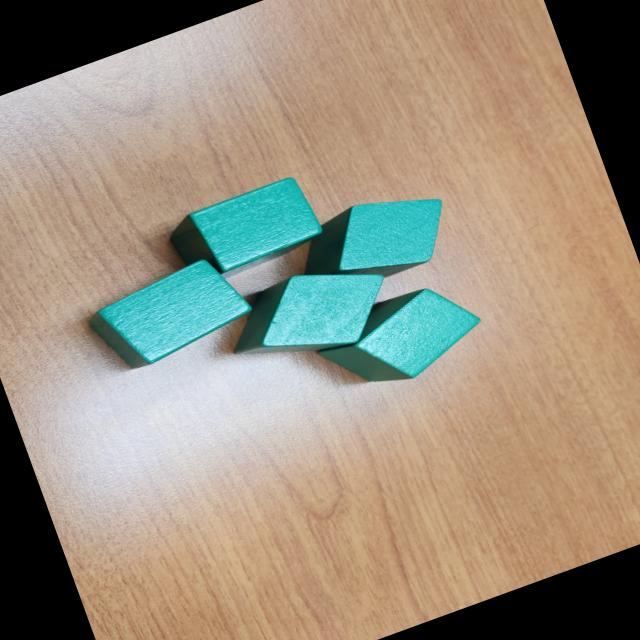green: (213, 244, 409, 385), (309, 270, 495, 408), (80, 249, 258, 381), (286, 175, 462, 305), (162, 172, 329, 292)
